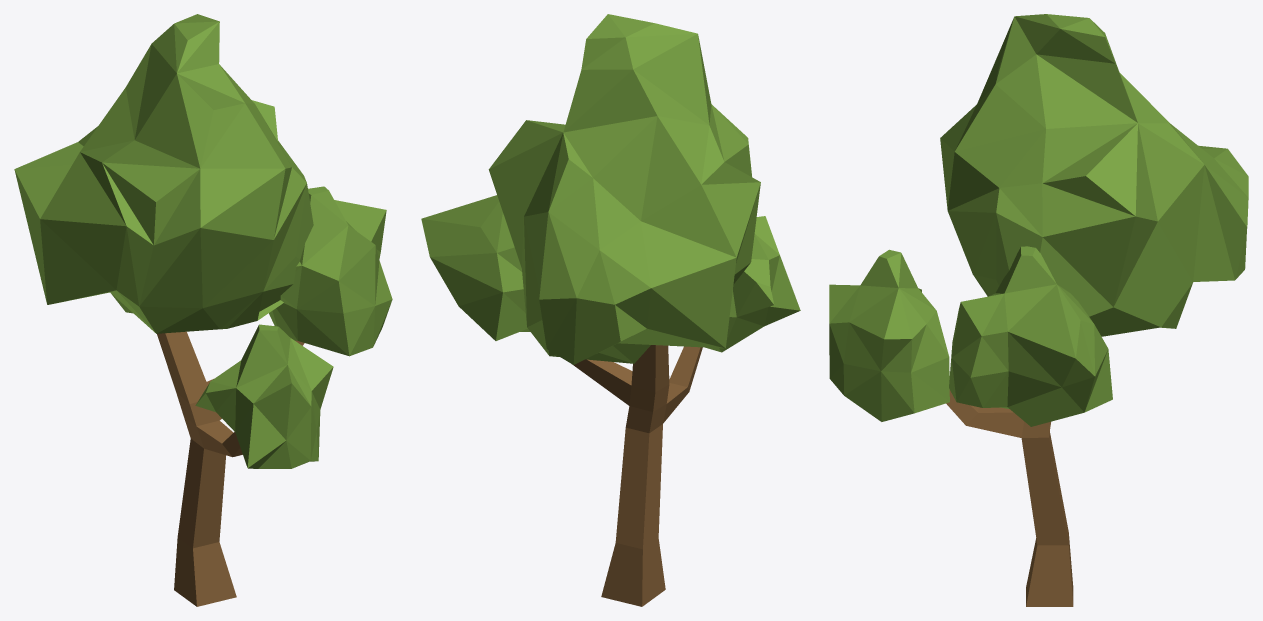
Rendered from OakTree3.fbx.
3 views of the same model, side by side, from view 1: azimuth 30°, elevation 25°; view 2: azimuth 150°, elevation 25°; view 3: azimuth 270°, elevation 25° (orthographic). The views are drawn at different scales.
Parts seen in each view (by area): view 1: Cube.256, Cube.257, Cube.258, Cube.255; view 2: Cube.256, Cube.255, Cube.257, Cube.258; view 3: Cube.256, Cube.257, Cube.258, Cube.255.
Part boxes in pixels (x1,y1,x2,y2): Cube.256: [14, 14, 313, 333]; Cube.257: [269, 186, 392, 356]; Cube.258: [195, 324, 333, 468]; Cube.255: [157, 331, 304, 606]; Cube.256: [488, 14, 760, 364]; Cube.255: [572, 345, 702, 606]; Cube.257: [421, 195, 530, 340]; Cube.258: [706, 216, 800, 352]; Cube.256: [940, 14, 1248, 336]; Cube.257: [949, 246, 1112, 426]; Cube.258: [829, 249, 949, 421]; Cube.255: [946, 390, 1073, 606].
Bounding box in the file's own units: 487 × 802 × 527.
